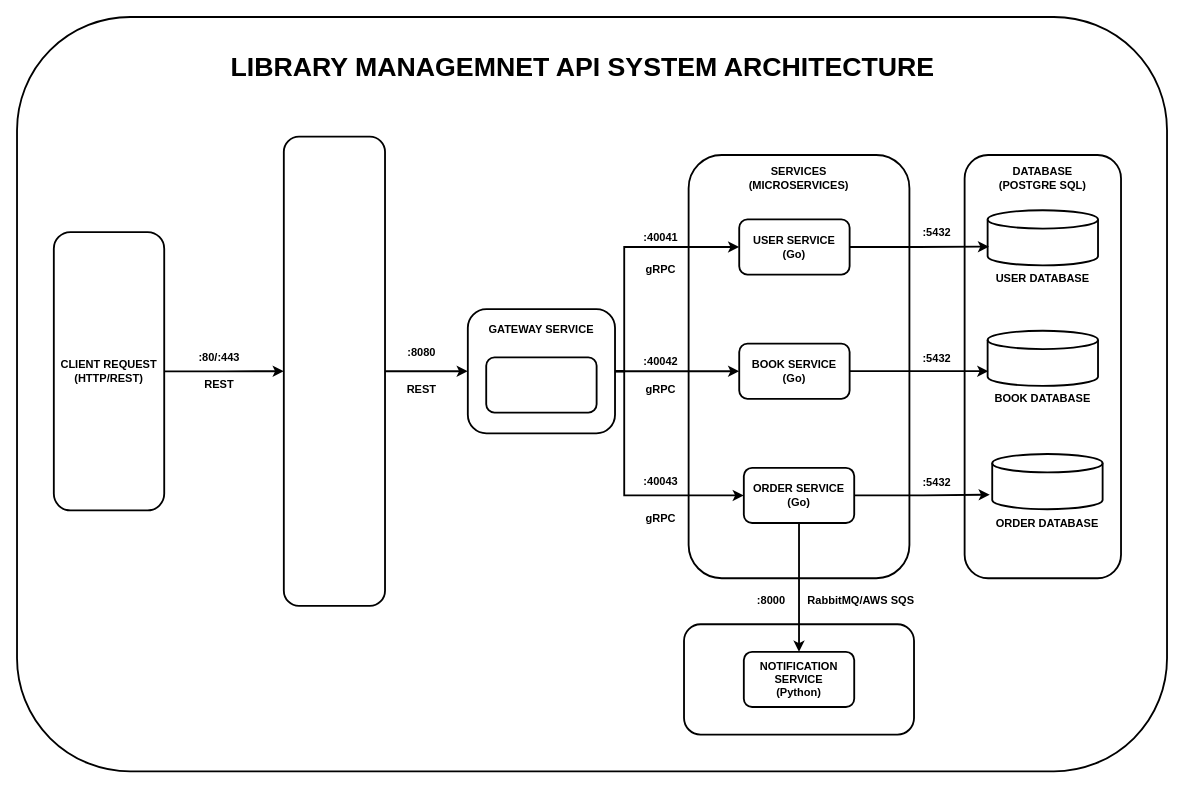
Image size: 1183x788. Some labels were removed from this diagram. The shapes that lost their labels are listed below. From the top down, each one's centre as x and y in pixels, then its label:
At (333,370): "INGRESS NGINX CONTROLLER".
At (541,384): "GATEWAY SERVICE (Go/Gin)".
